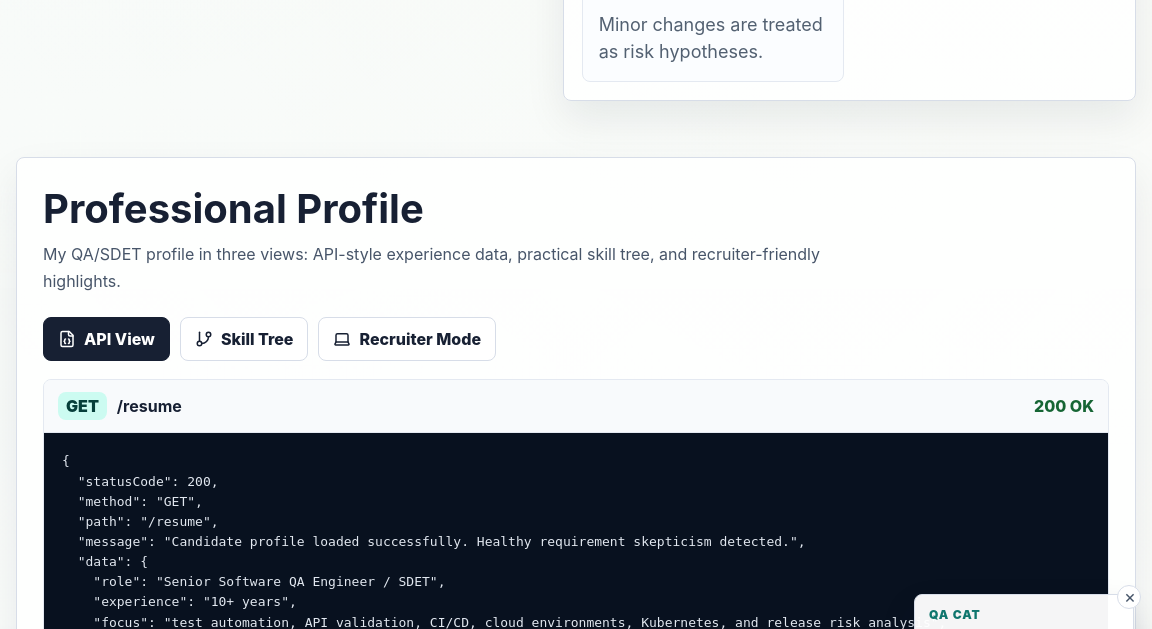
Test: Galina QA Control Center UI › switches to the recruiter-readable profile view
(page scrolled)
Click the button "Recruiter Mode": [407, 339] box [318,317,496,361]
(page scrolled)
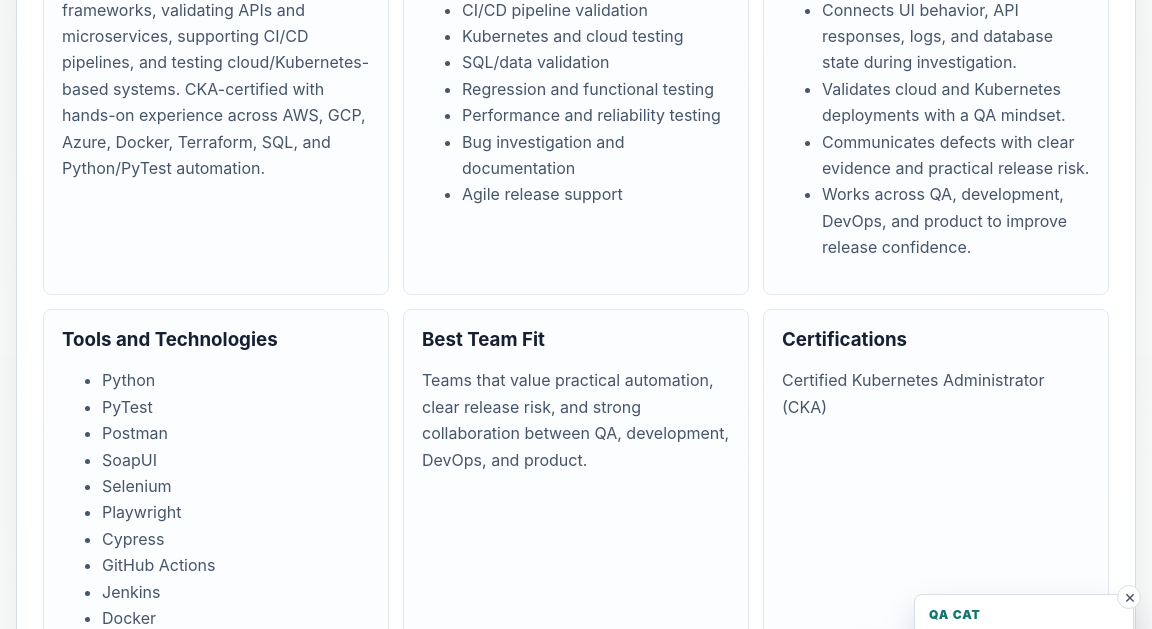
Expected: the heading "Best Team Fit" is shown, [422,328,545,352]
